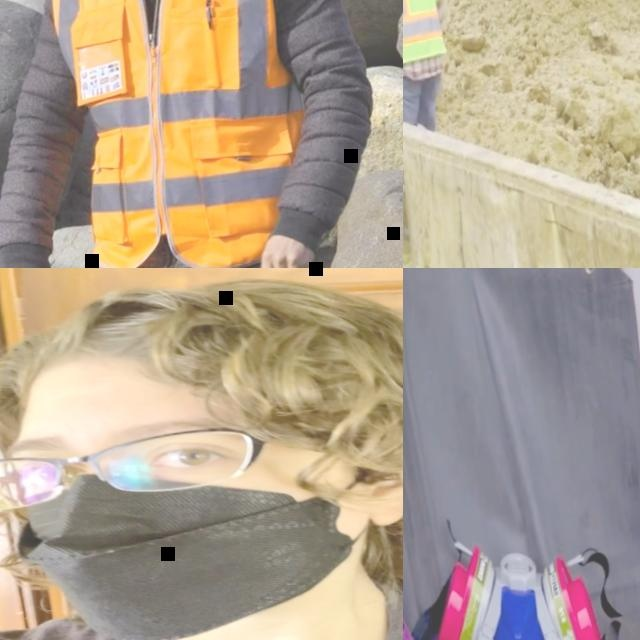Mask: (8, 441, 403, 640), (426, 531, 607, 640)
NO-Hardhat: (0, 268, 403, 427)
Person: (0, 268, 403, 640), (0, 0, 399, 268)
Safety Vest: (50, 0, 351, 268)
